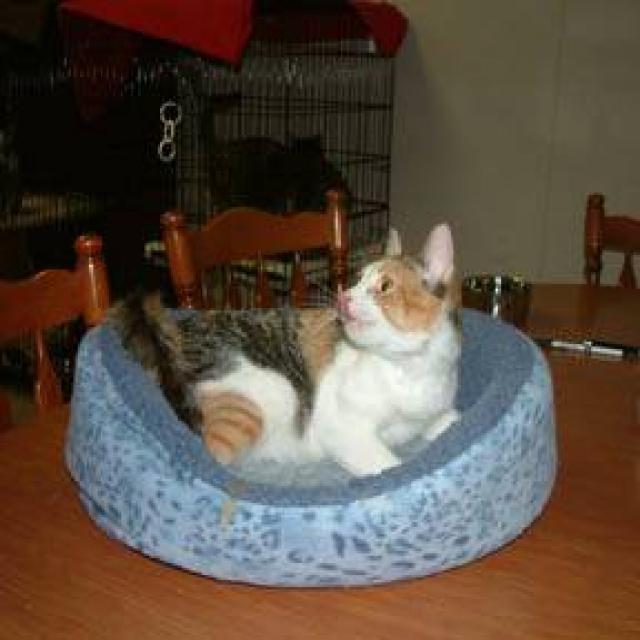cat: (104, 219, 464, 476)
